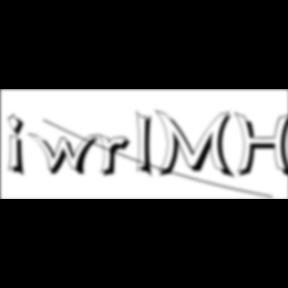M: (155, 108, 239, 181)
i: (8, 112, 32, 180)
l: (136, 108, 160, 182)
r: (99, 134, 137, 180)
w: (28, 132, 106, 178)
